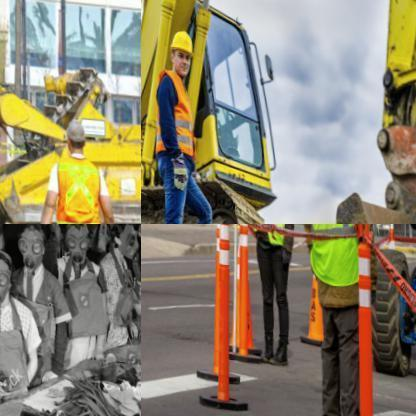vest: (296, 224, 364, 288), (152, 69, 195, 156), (53, 150, 103, 223), (246, 224, 291, 249)
